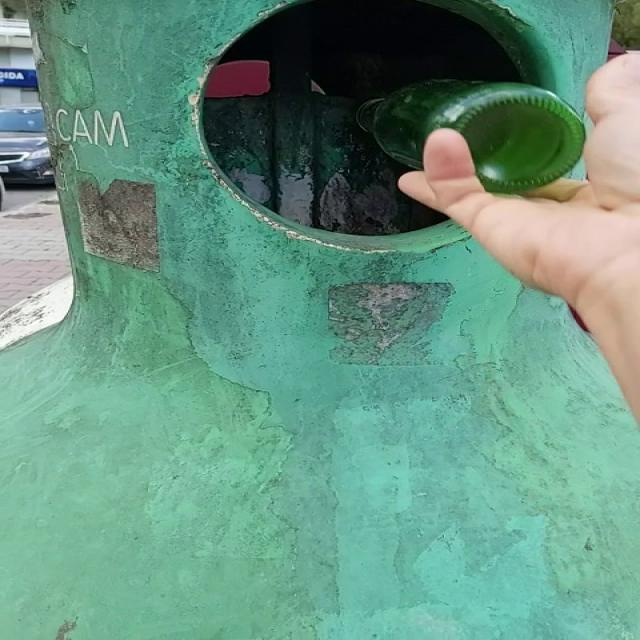glass: (359, 79, 584, 193)
